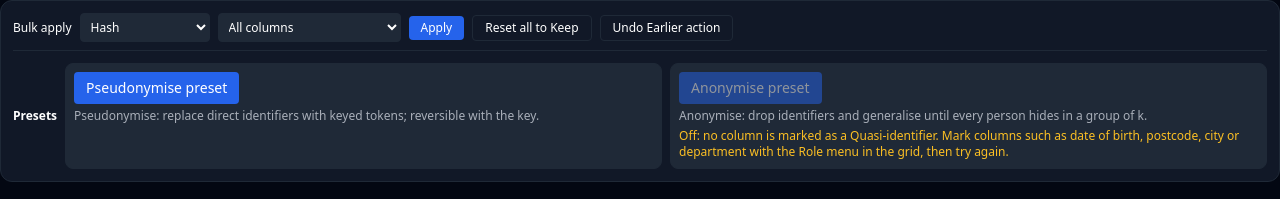
Test: BulkPolicyBar › Undo after Apply restores the pre-Apply policies and names the bulk action
Step 1. Select "Redact" in the dropdown named "Policy to apply" → (145, 28), box [80,13,210,42]
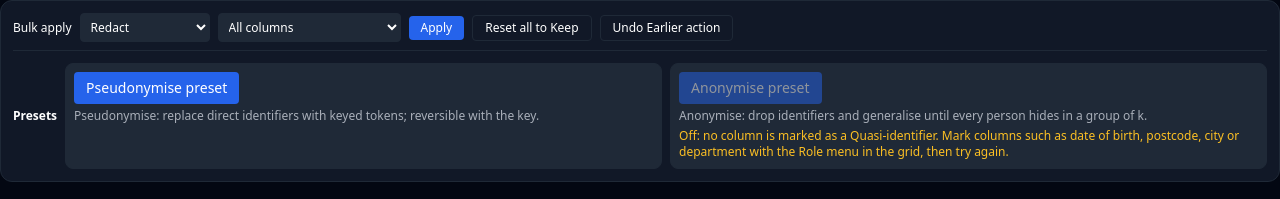
Step 2. Click the button "Apply" → (436, 28), box [409,16,464,40]
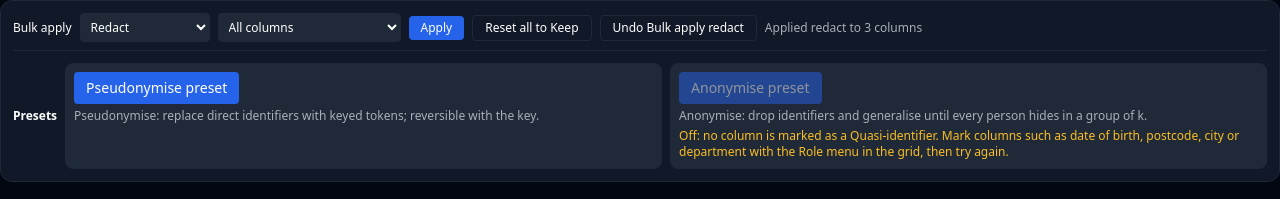
Step 3. Click the button "Undo Bulk apply redact" → (678, 28), box [600,14,757,40]
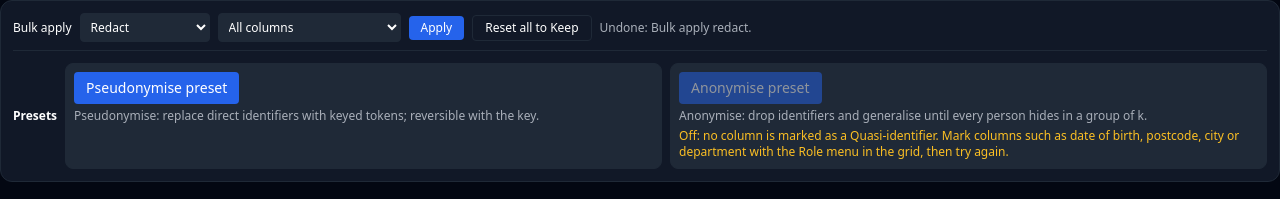
Check: the message reads "Undone: Bulk apply redact.", box [600,18,751,36]
